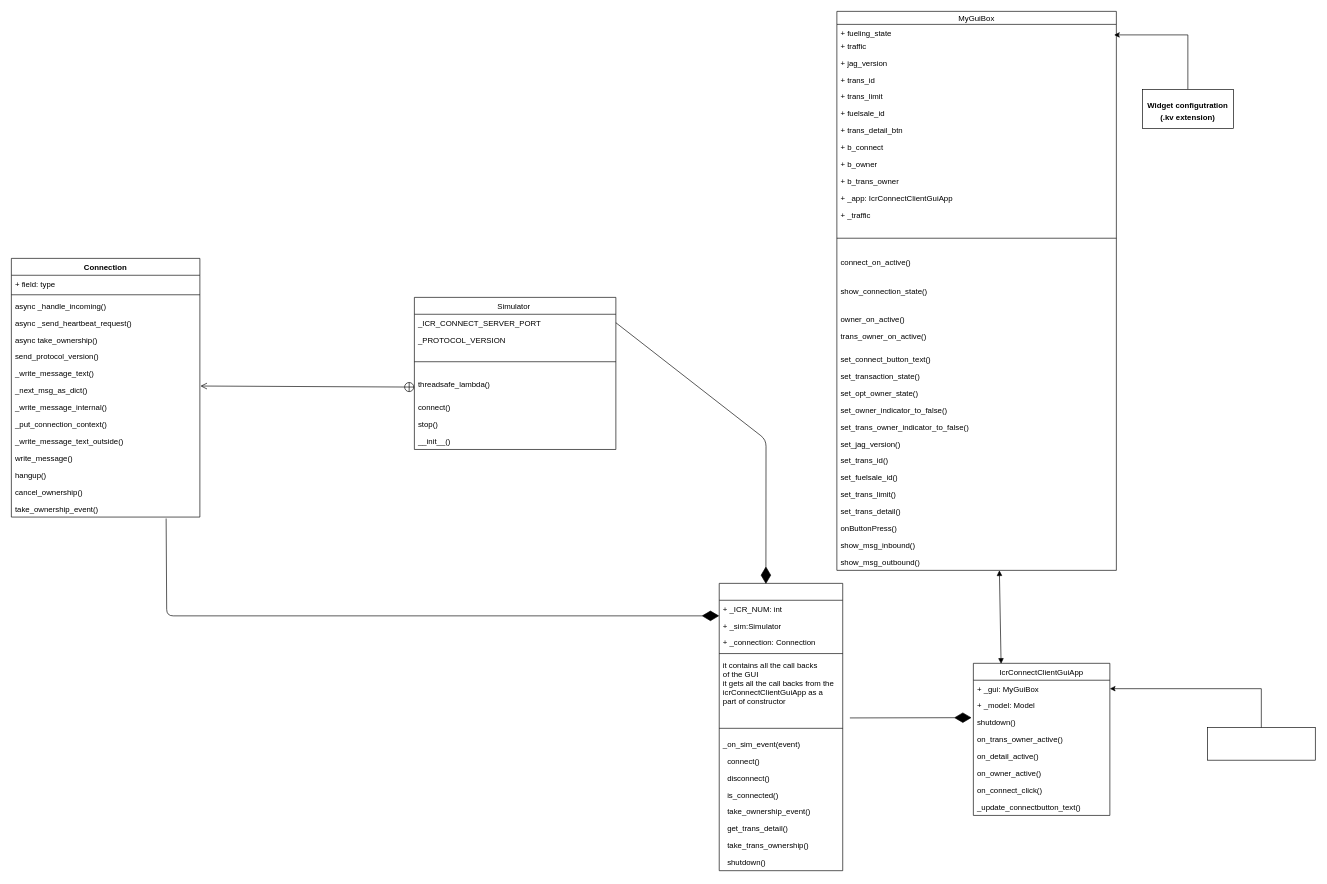
Some shapes in this 1327 by 884 pixel diagram are drawn without their labels. The box of each missing label's shape, as (x1, y1, x2, y2) in pixels:
IcrConnectClientGuiApp().run: (1207, 727, 1315, 760)
Model: (719, 583, 843, 871)
